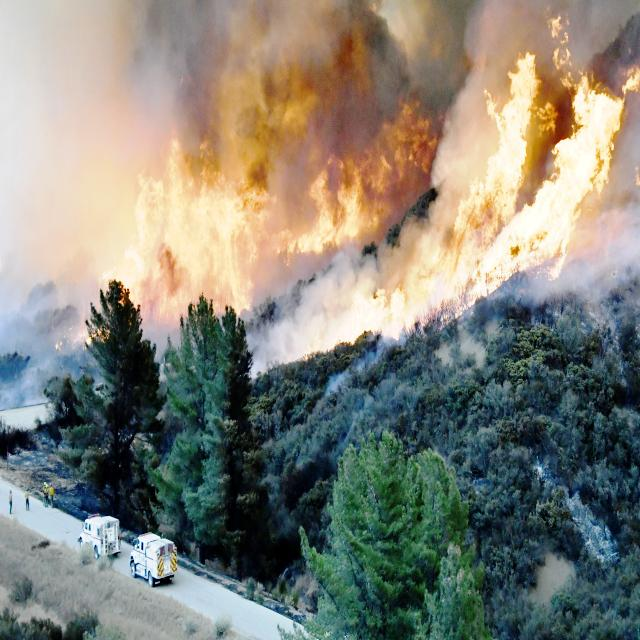api: (417, 11, 640, 330), (100, 126, 278, 333), (270, 168, 385, 261), (308, 282, 411, 354)
asap: (246, 1, 536, 387), (1, 1, 145, 408), (118, 1, 258, 188)
